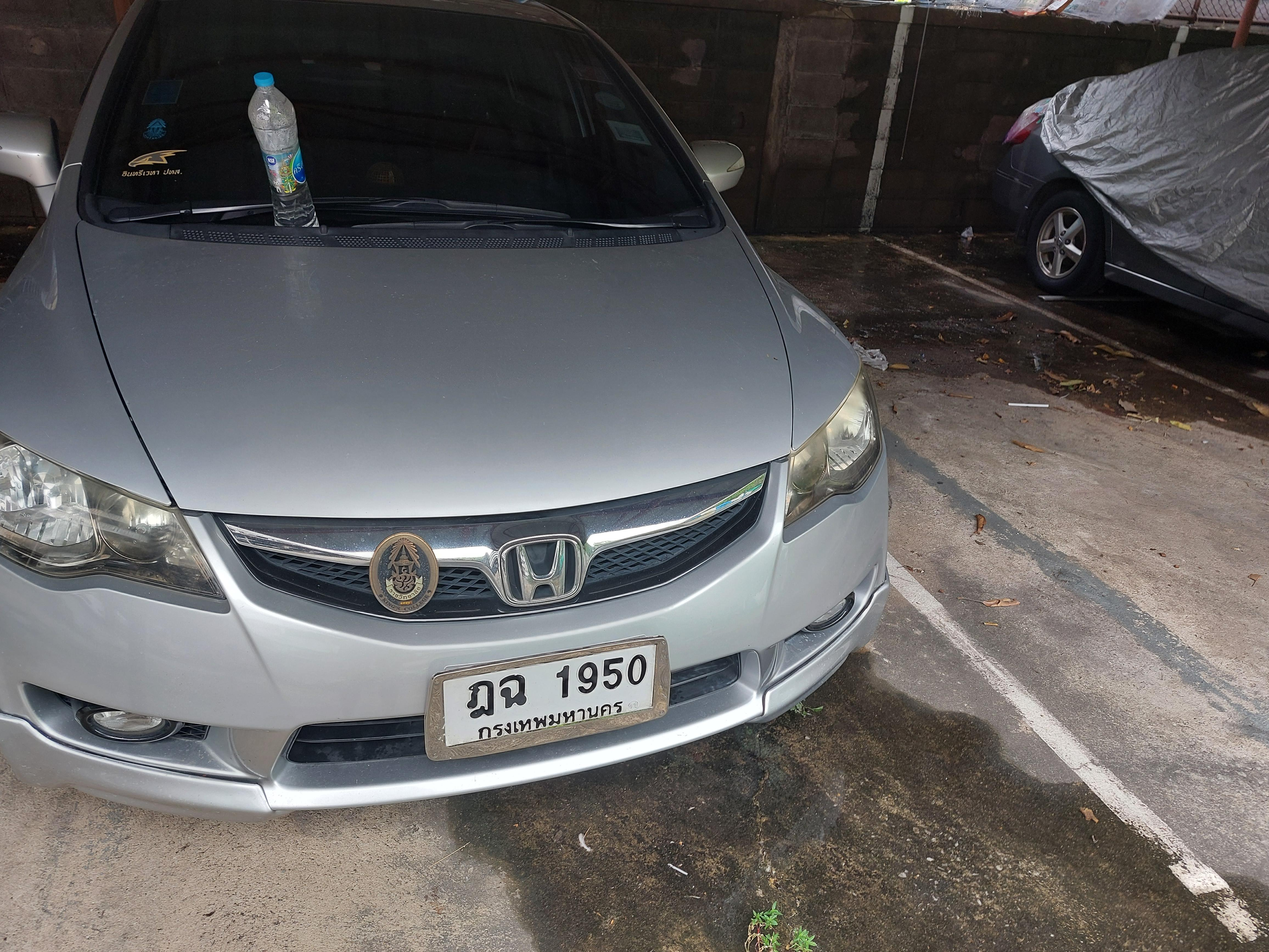license-plate: (418, 635, 677, 764)
